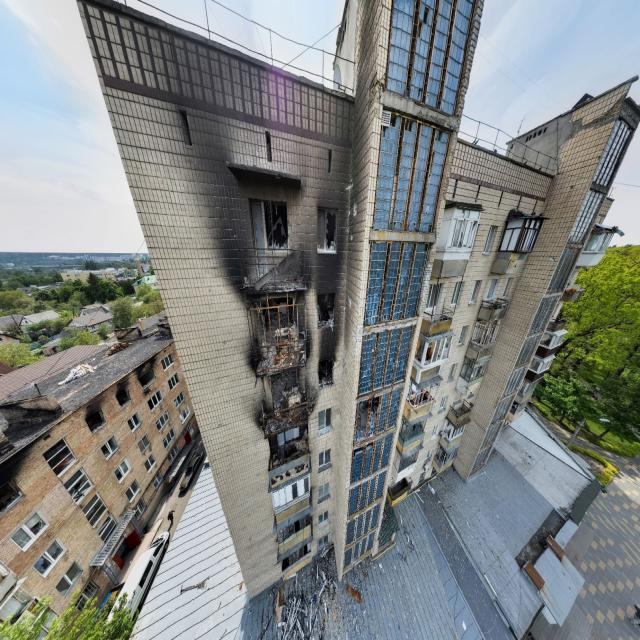broken_window: (317, 206, 337, 254)
building: (75, 0, 485, 601), (390, 72, 639, 502), (0, 308, 201, 638)
